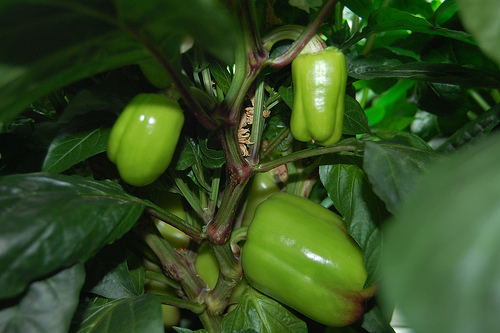capsicum: (230, 193, 378, 329), (261, 22, 349, 148), (106, 89, 187, 190)
